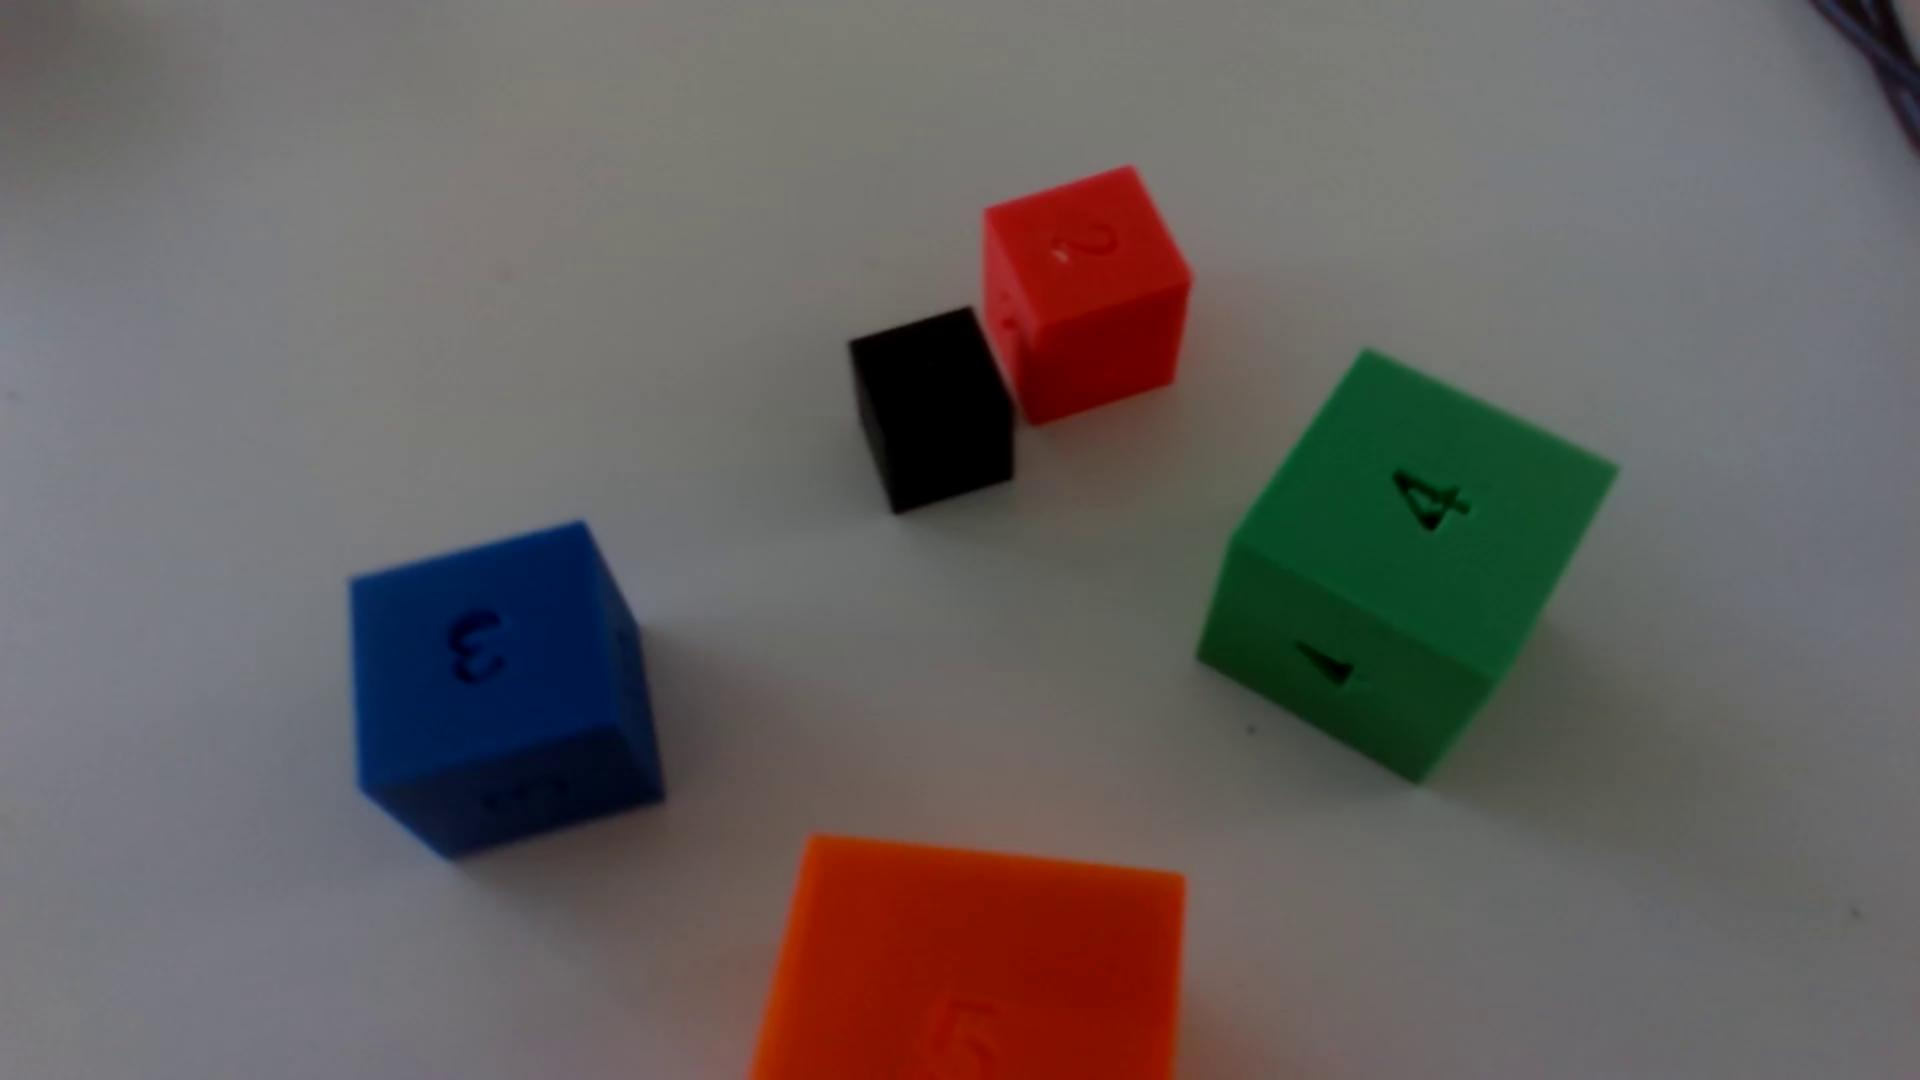black: (848, 307, 1015, 516)
blue: (349, 524, 665, 861)
green: (1197, 353, 1615, 782)
orange: (750, 836, 1185, 1080)
red: (980, 167, 1191, 426)
